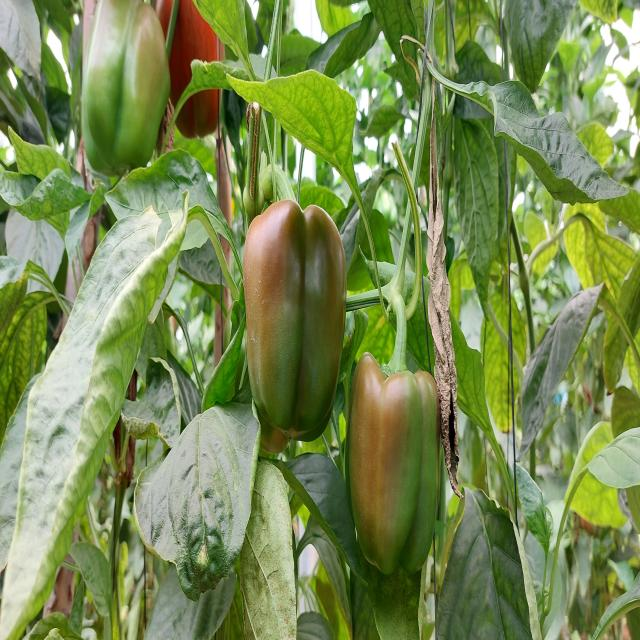BrownishRed--Can-be-Harvested: (243, 214, 344, 446), (350, 350, 442, 577), (86, 6, 172, 172)
